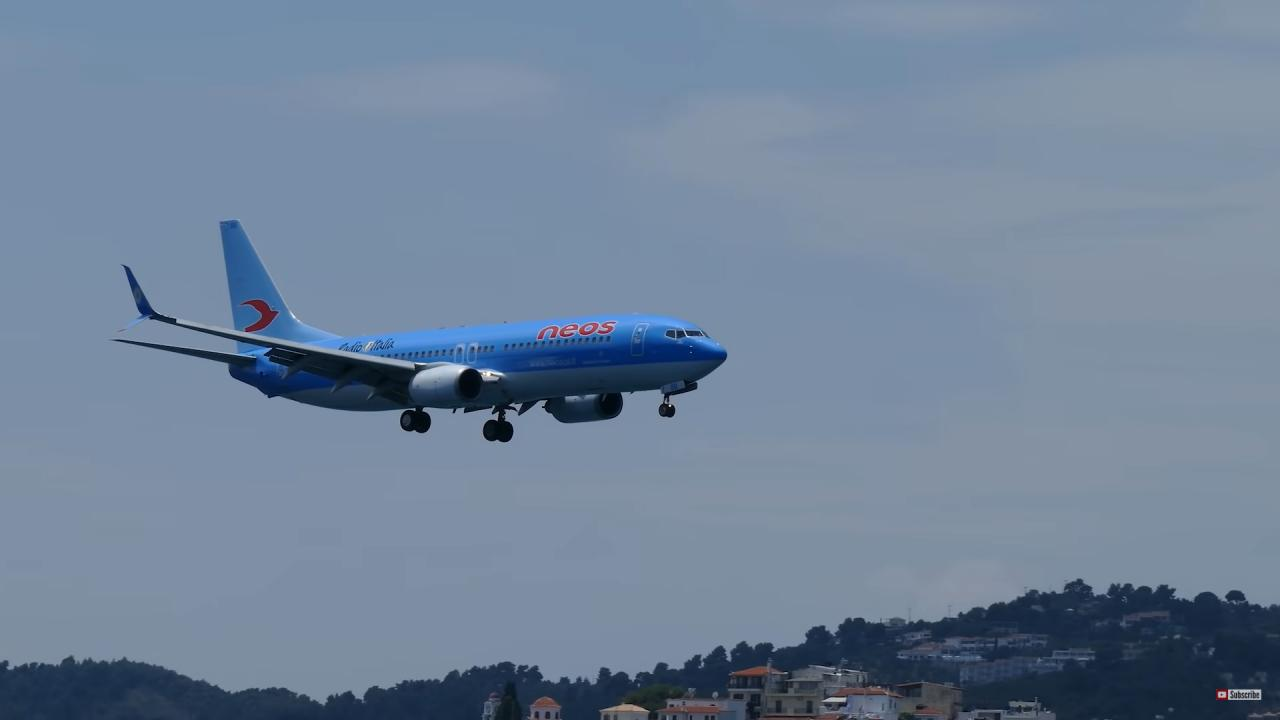Airplane: (99, 206, 739, 450)
